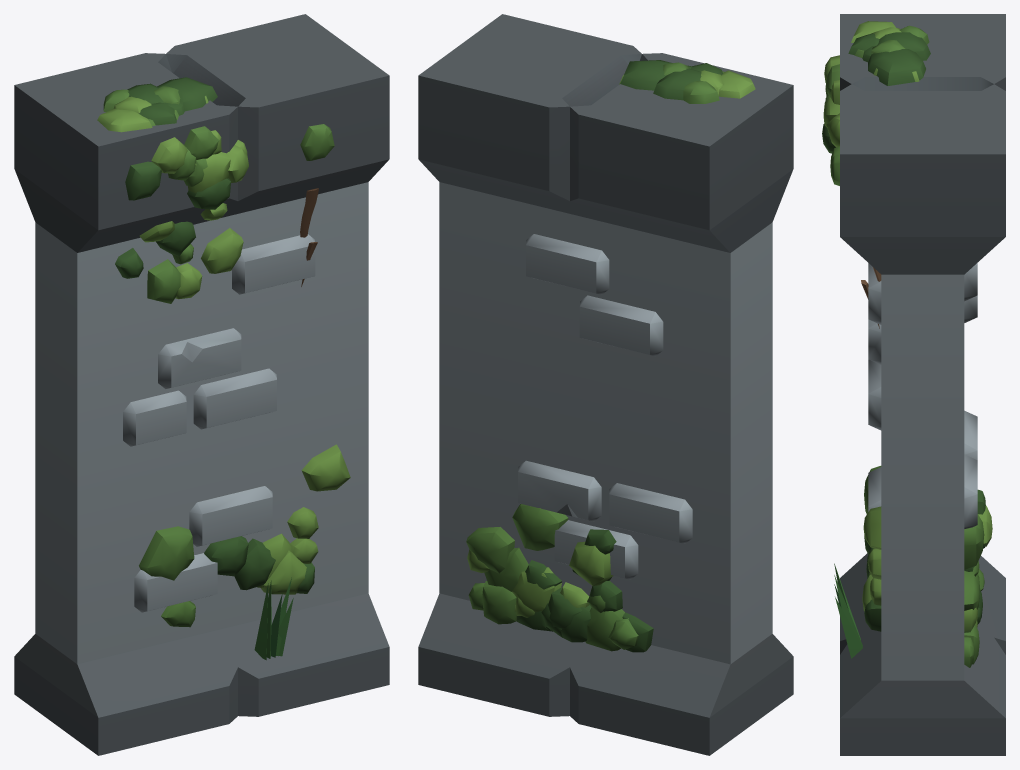
File: wall_mossy_half_B.glb
3 views of the same model, side by side, from view 1: azimuth 30°, elevation 25°; view 2: azimuth 150°, elevation 25°; view 3: azimuth 270°, elevation 25° (orthographic).
Visible parts, largest first — view 1: Item; view 2: Item; view 3: Item.
Part boxes in pixels (x1,y1,x2,y2): Item: (14, 14, 389, 755); Item: (418, 14, 793, 755); Item: (822, 14, 1005, 755).
Bounding box in the file's own units: 2 × 4.1 × 1.11.
Materials: 2 (2 with a texture image).
